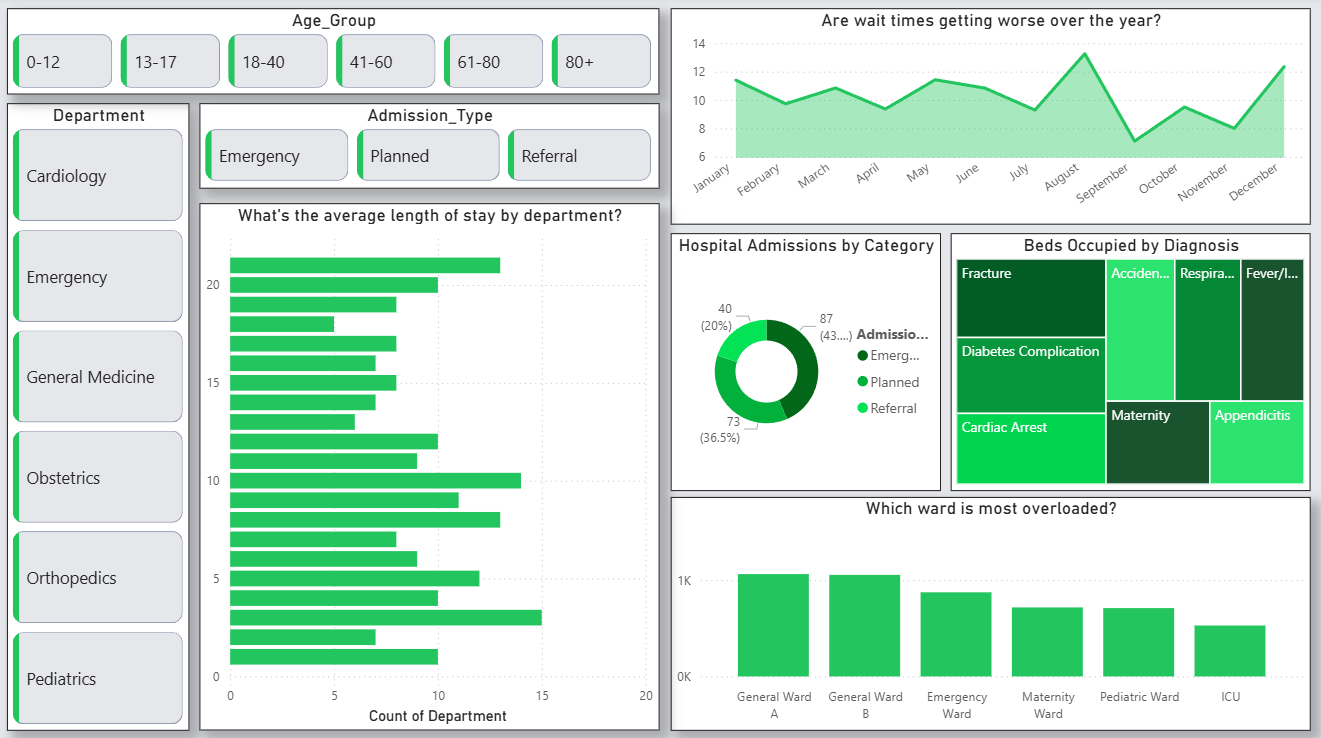

Layout of this report page (visuals, bound fields, positions):
{"tool":"powerbi","page":{"name":"Dashboard ","canvas":[1280,720],"ordinal":0},"visuals":[{"type":"advancedSlicerVisual","fields":{"Values":["Daily_Occupancy.Department"]},"box":[9.7,102.5,176.1,605.6],"z":0},{"type":"advancedSlicerVisual","fields":{"Values":["Patient_Admissions.Age_Group"]},"box":[9.7,10.9,629.8,83.2],"z":1000},{"type":"advancedSlicerVisual","fields":{"Values":["Patient_Admissions.Admission_Type"]},"box":[195.4,102.5,444,82],"z":2000},{"type":"clusteredColumnChart","title":"Which ward is most overloaded?","fields":{"Category":["Daily_Occupancy.Ward"],"Y":["Sum(Daily_Occupancy.Occupied_Beds)"]},"box":[650.3,482.6,617.7,225.6],"z":3000},{"type":"lineChart","title":"Are wait times getting worse over the year?","fields":{"Category":["Patient_Admissions.Admission_Date.Variation.Date Hierarchy.Month"],"Y":["Patient_Admissions.Wait_Time_by_Patient"]},"box":[650.3,10.9,617.7,208.7],"z":4000},{"type":"clusteredBarChart","title":"What''s the average length of stay by department?","fields":{"Category":["Patient_Admissions.Days_Stayed"],"Y":["CountNonNull(Patient_Admissions.Department)"]},"box":[195.4,199.1,444,509.1],"z":5000},{"type":"donutChart","title":"Hospital Admissions by Category","fields":{"Category":["Patient_Admissions.Admission_Type"],"Y":["Patient_Admissions.Total_Admissions"]},"box":[650.3,228,260.6,248.5],"z":6000},{"type":"treemap","title":"Beds Occupied by Diagnosis","fields":{"Group":["Patient_Admissions.Diagnosis_Category"],"Values":["Patient_Admissions.Total_Beds_by_Diagnosis"]},"box":[920.5,228,347.5,248.5],"z":7000}]}

Visuals, with their boxes in screenshot pixels (x1, y1, x2, y2), scaled from the page's 1280x720 canvas onto the 1321x738 screenshot:
advancedSlicerVisual - Daily_Occupancy.Department: [10, 105, 192, 726]
advancedSlicerVisual - Patient_Admissions.Age_Group: [10, 11, 660, 96]
advancedSlicerVisual - Patient_Admissions.Admission_Type: [202, 105, 660, 189]
"Which ward is most overloaded?" clusteredColumnChart: [671, 495, 1309, 726]
"Are wait times getting worse over the year?" lineChart: [671, 11, 1309, 225]
"What''s the average length of stay by department?" clusteredBarChart: [202, 204, 660, 726]
"Hospital Admissions by Category" donutChart: [671, 234, 940, 488]
"Beds Occupied by Diagnosis" treemap: [950, 234, 1309, 488]
